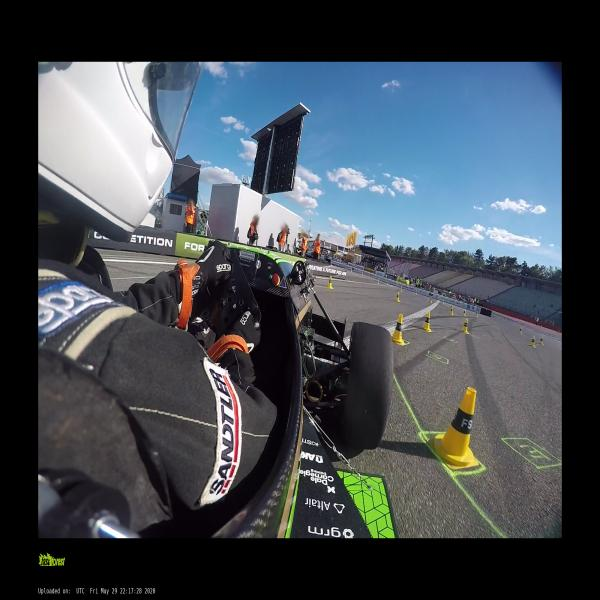yellow_cone: (430, 385, 479, 467), (390, 314, 405, 345), (422, 312, 432, 332), (462, 320, 468, 334), (528, 337, 536, 347), (327, 275, 332, 289), (396, 293, 400, 303), (538, 338, 544, 344), (518, 327, 523, 334), (450, 308, 453, 315), (400, 287, 403, 292), (463, 310, 465, 316), (377, 280, 380, 284), (387, 280, 389, 286), (430, 298, 432, 303)
